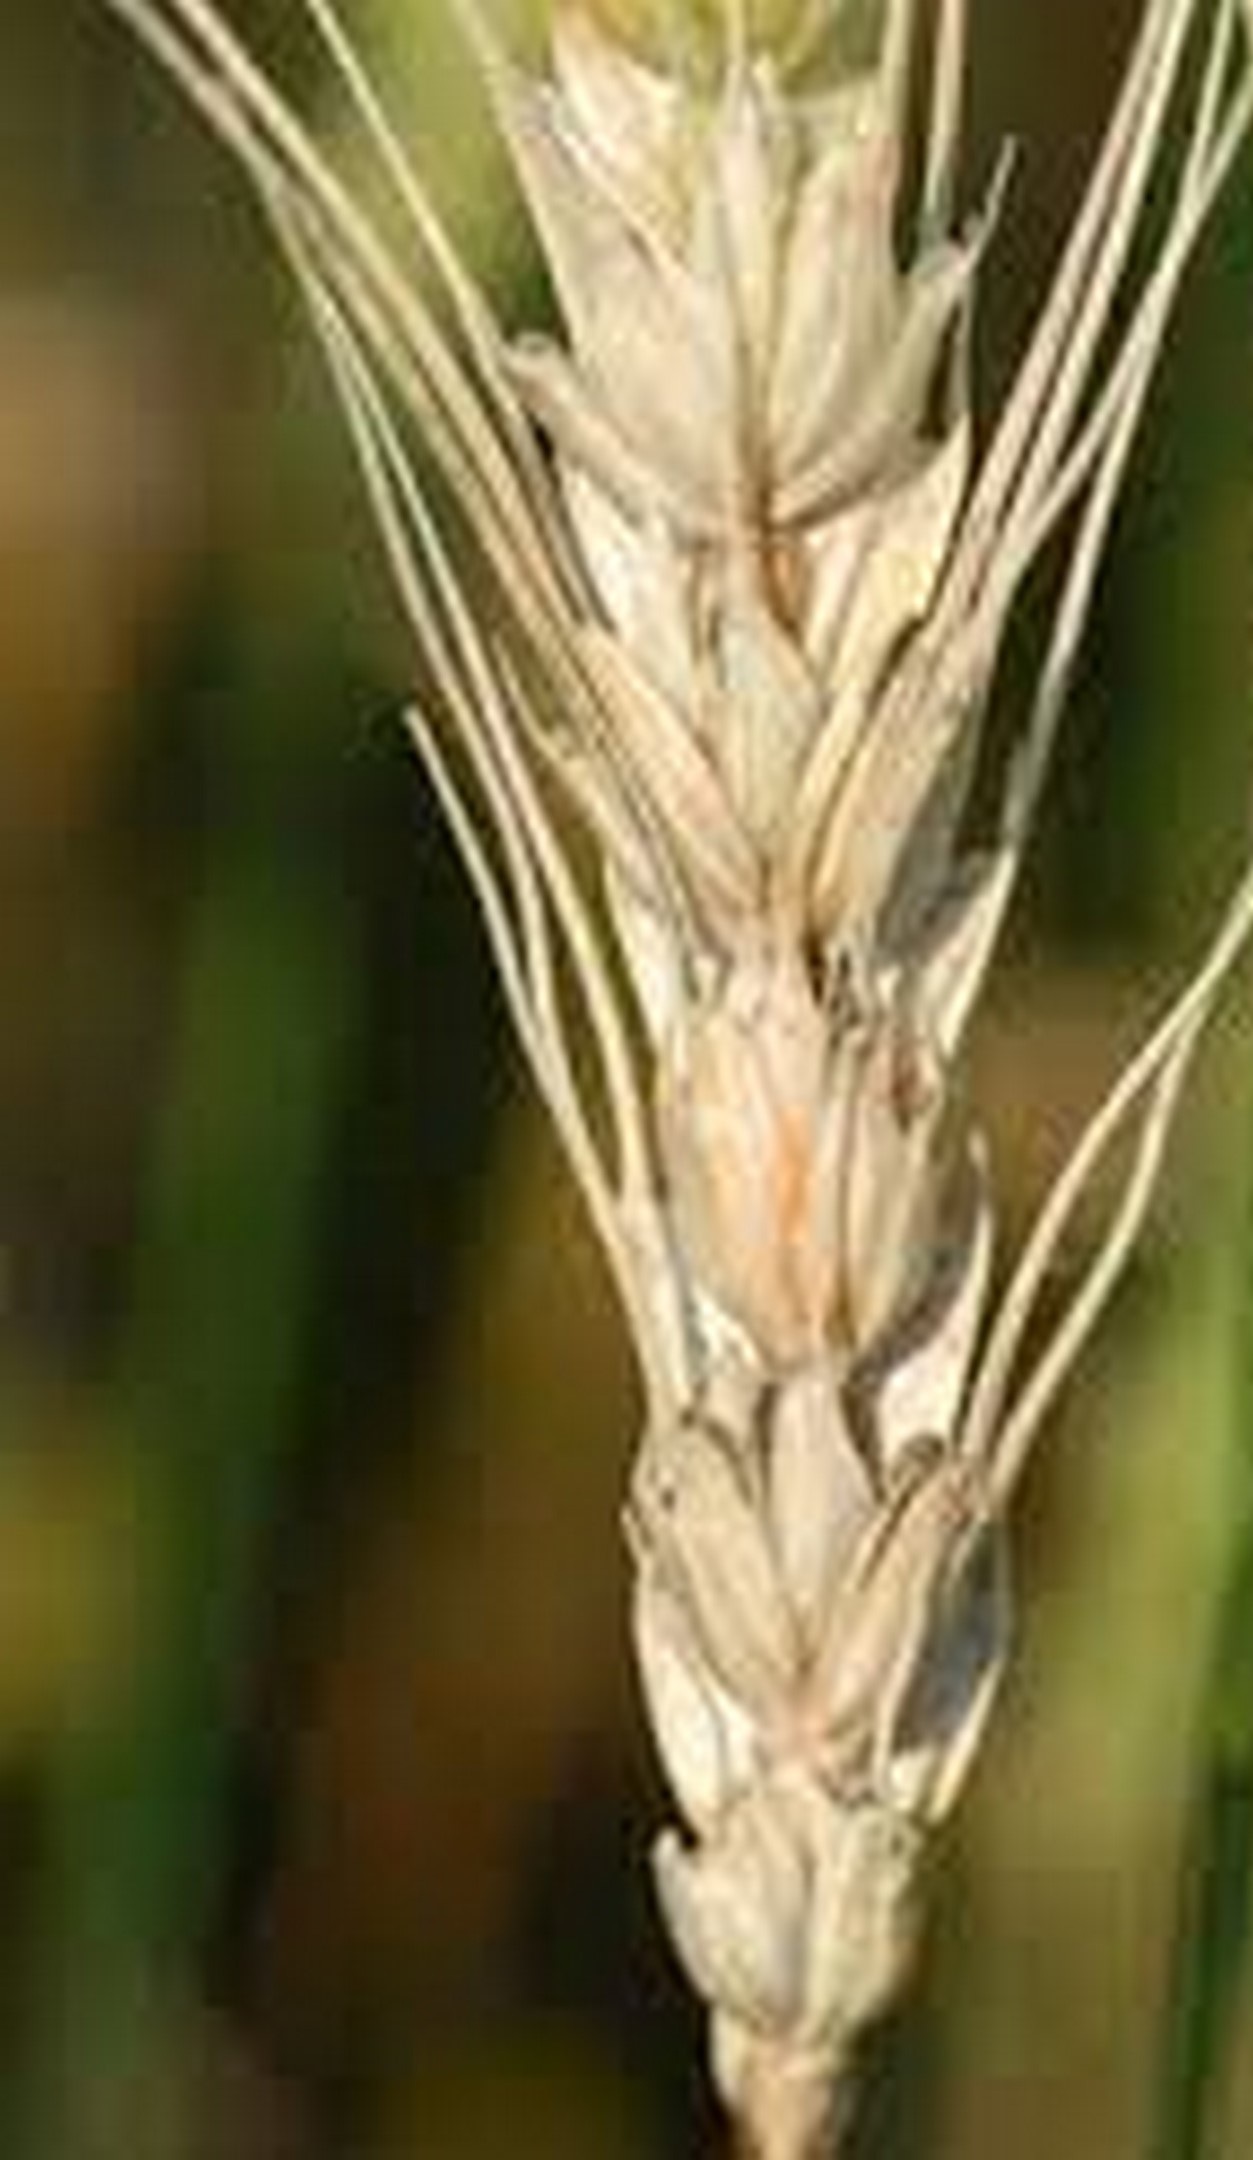Wheat scab: (406, 110, 1049, 2160)
